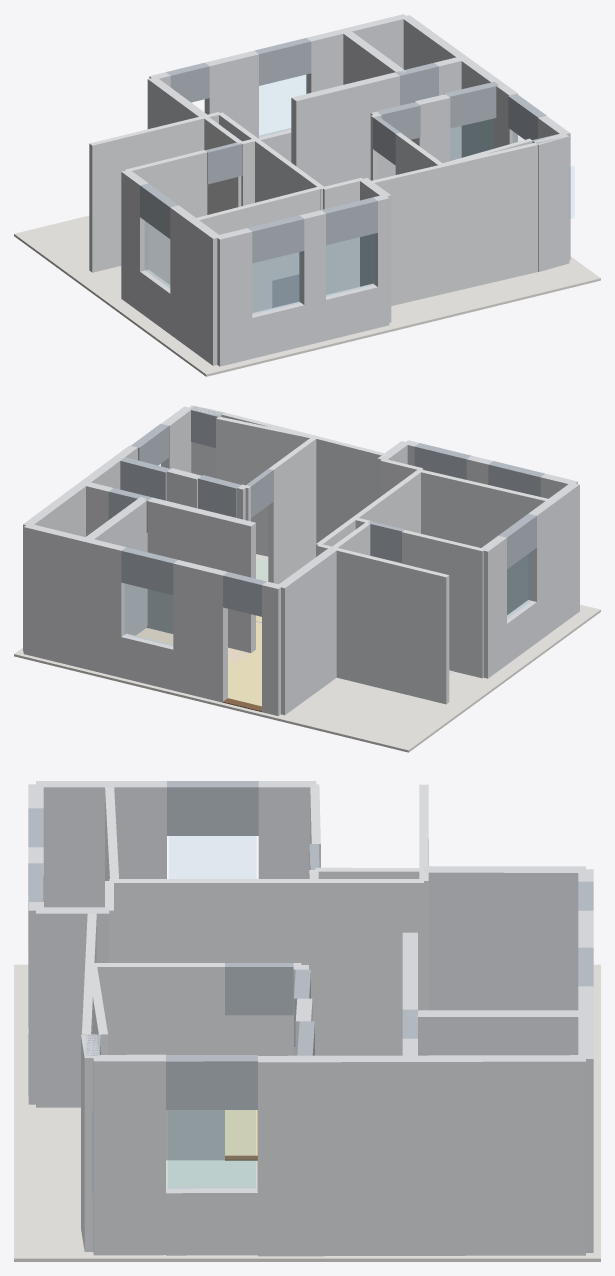
Rendered from test_with_balcony_walls.glb.
3 renders of one model, top to bottom at view 1: azimuth 30°, elevation 25°; view 2: azimuth 150°, elevation 25°; view 3: azimuth 270°, elevation 25°, orthographic. The views are drawn at different scales.
Parts seen in each view (by area): view 1: wall_001_w2, floor_slab, wall_post_020_00, wall_013_w14, wall_post_009_00, wall_post_000_00, wall_post_003_final, wall_010_w11, wall_016_w17, wall_post_007_00, wall_post_004_final, wall_post_004_01 (+30 smaller); view 2: wall_013_w14, wall_post_004_final, floor_slab, wall_post_020_00, wall_006_w7, wall_010_w11, wall_post_004_01, wall_post_009_00, wall_post_007_00, wall_post_018_00, wall_001_w2, wall_015_w16 (+31 smaller); view 3: wall_post_003_final, wall_006_w7, wall_011_w12, floor_slab, wall_012_w13, wall_post_003_00, wall_post_018_00, wall_post_009_00, wall_022_w_balc_right, wall_021_w22, sill_wall_003_win7, wall_post_009_final (+20 smaller).
Boxes of the visible parts, x1,y1,x2,y2 form: wall_001_w2: (367,142,538,305); floor_slab: (14,215,600,376); wall_post_020_00: (291,72,399,186); wall_013_w14: (89,115,205,272); wall_post_009_00: (170,205,220,365); wall_post_000_00: (215,228,252,366); wall_post_003_final: (401,15,517,157); wall_010_w11: (193,186,321,312); wall_016_w17: (533,133,569,271); wall_post_007_00: (124,150,207,284); wall_post_004_final: (306,14,408,93); wall_post_004_01: (204,50,258,138); wall_013_w14: (332,547,449,704); wall_post_004_final: (23,523,126,677); floor_slab: (14,554,600,752); wall_post_020_00: (147,497,255,652); wall_006_w7: (279,547,337,715); wall_010_w11: (419,470,551,614); wall_post_004_01: (173,560,227,702); wall_post_009_00: (528,482,579,642); wall_post_007_00: (402,530,485,678); wall_post_018_00: (268,439,313,584); wall_001_w2: (221,412,388,543); wall_015_w16: (216,416,312,556); wall_post_003_final: (257,1055,585,1256); wall_006_w7: (424,866,585,1010); wall_011_w12: (109,879,313,1055); floor_slab: (14,964,600,1261); wall_012_w13: (314,879,423,1055); wall_post_003_00: (93,1054,165,1255); wall_post_018_00: (103,963,224,1160); wall_post_009_00: (36,781,166,907); wall_022_w_balc_right: (36,907,86,1107); wall_021_w22: (411,1010,581,1055); sill_wall_003_win7: (166,1186,257,1255); wall_post_009_final: (258,781,316,878).
Bounding box in the file's own units: 9.1 × 2.85 × 7.68.
